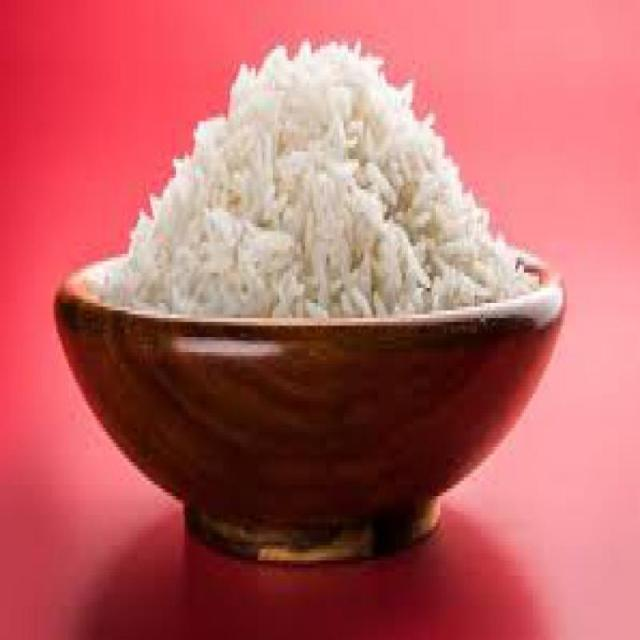nasi_putih: (99, 40, 542, 322)
